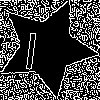I: (21, 23, 41, 70)
